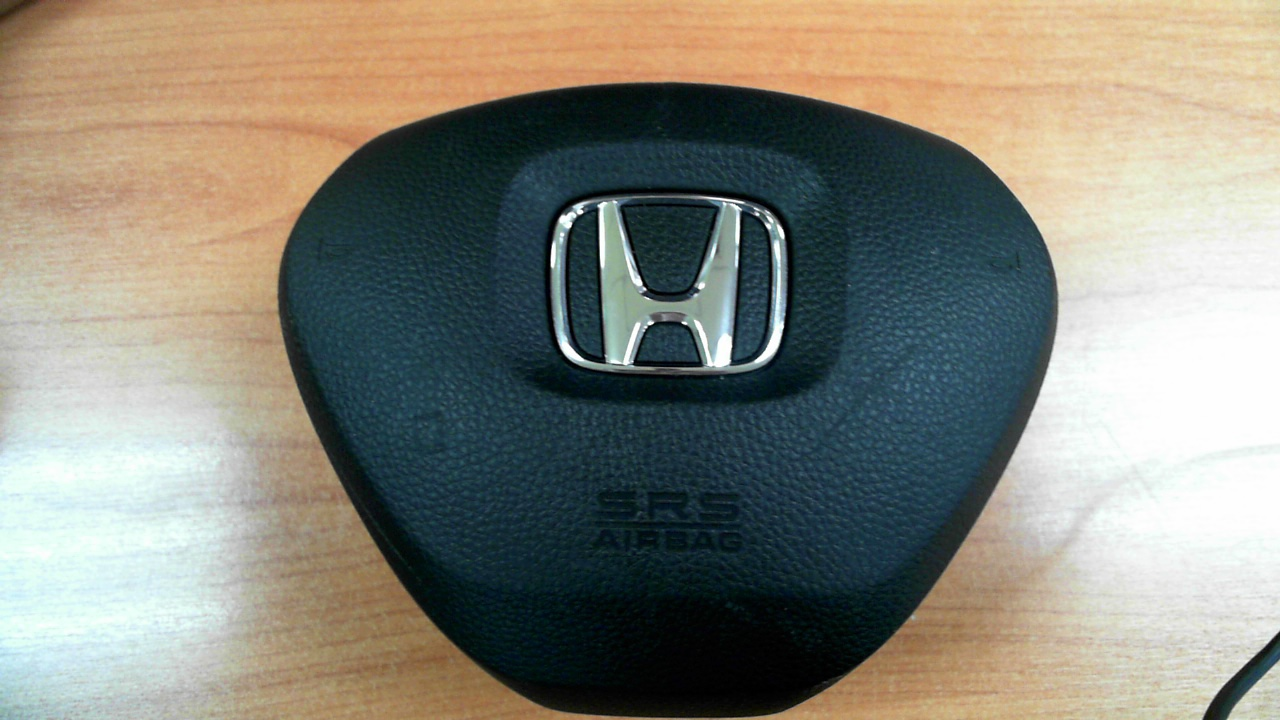Airbag: (277, 81, 1061, 719)
Honda: (549, 195, 788, 376)
